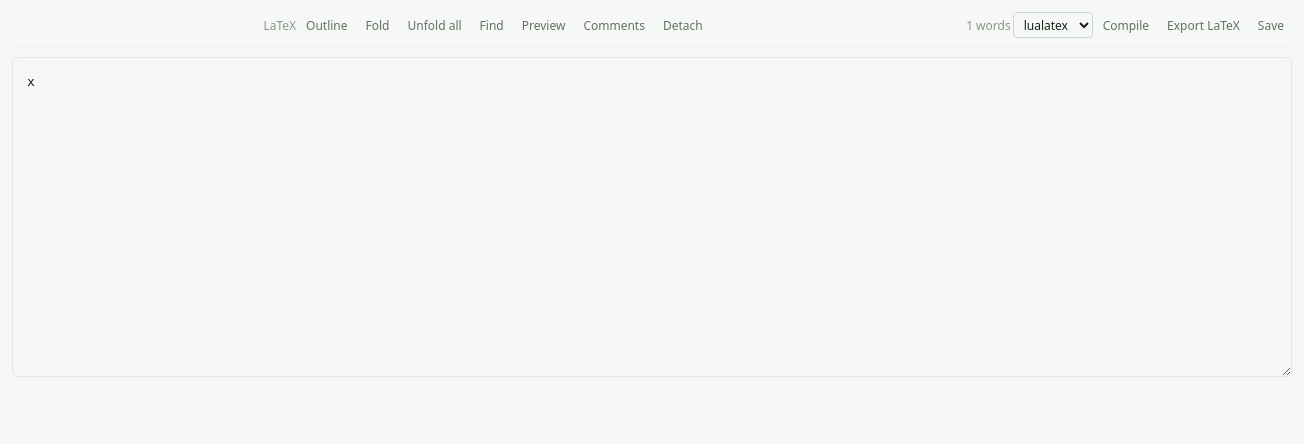
Test: compiling a manuscript › says where the compile ran
Click the button "Compile" at (1126, 25), box [1095, 12, 1157, 38]
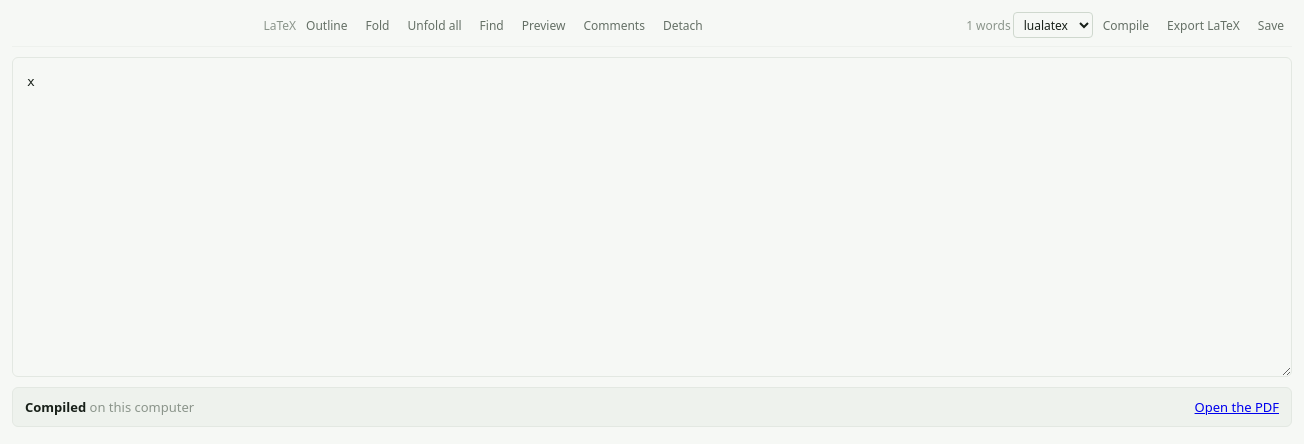
Result: the text "on this computer" is shown at [86, 398, 194, 416]
